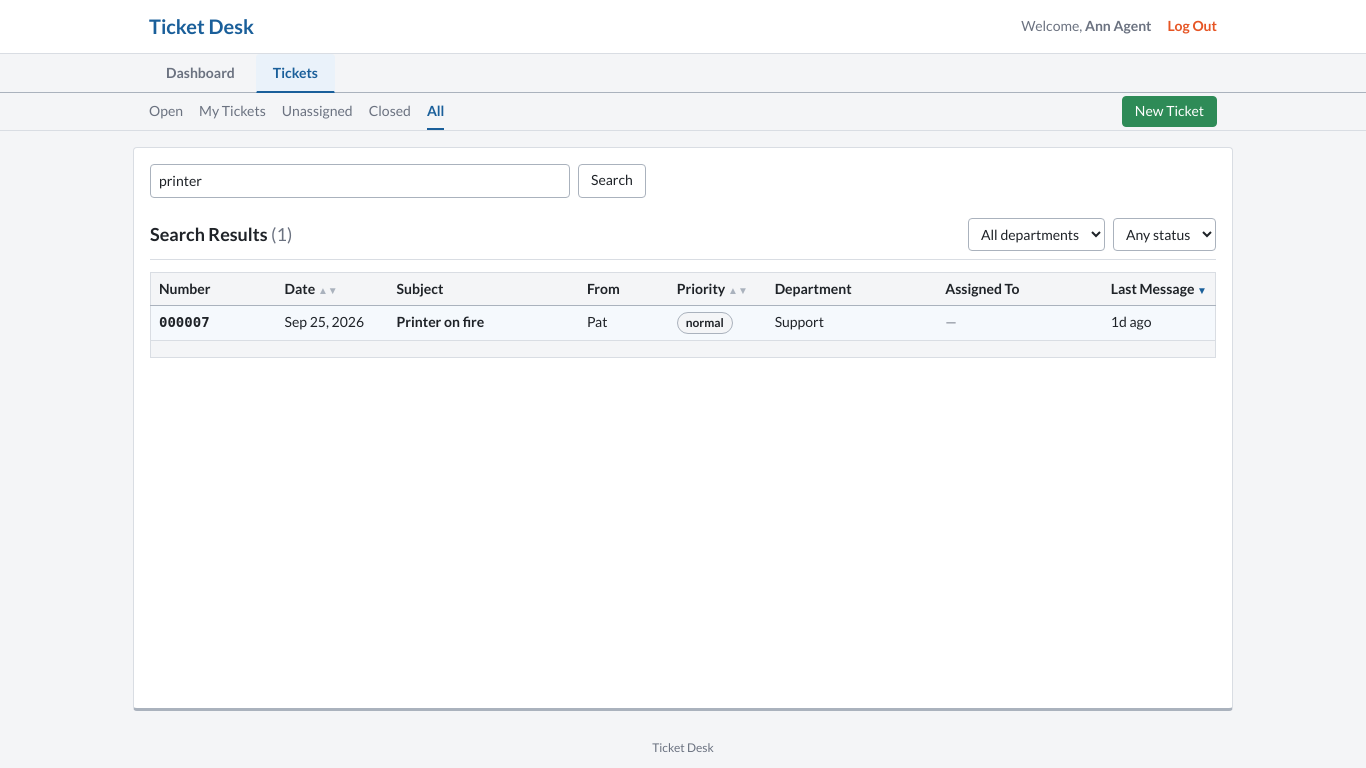
Test case: keeps the search box in sync with the URL
The image size is (1366, 768).
Expected: the heading "Search Results (1)" is shown, [150, 221, 292, 247]
Expected: the search field named "Search tickets" holds "printer", [150, 164, 570, 198]
Click the link "Open" at (166, 111), box [149, 102, 183, 119]
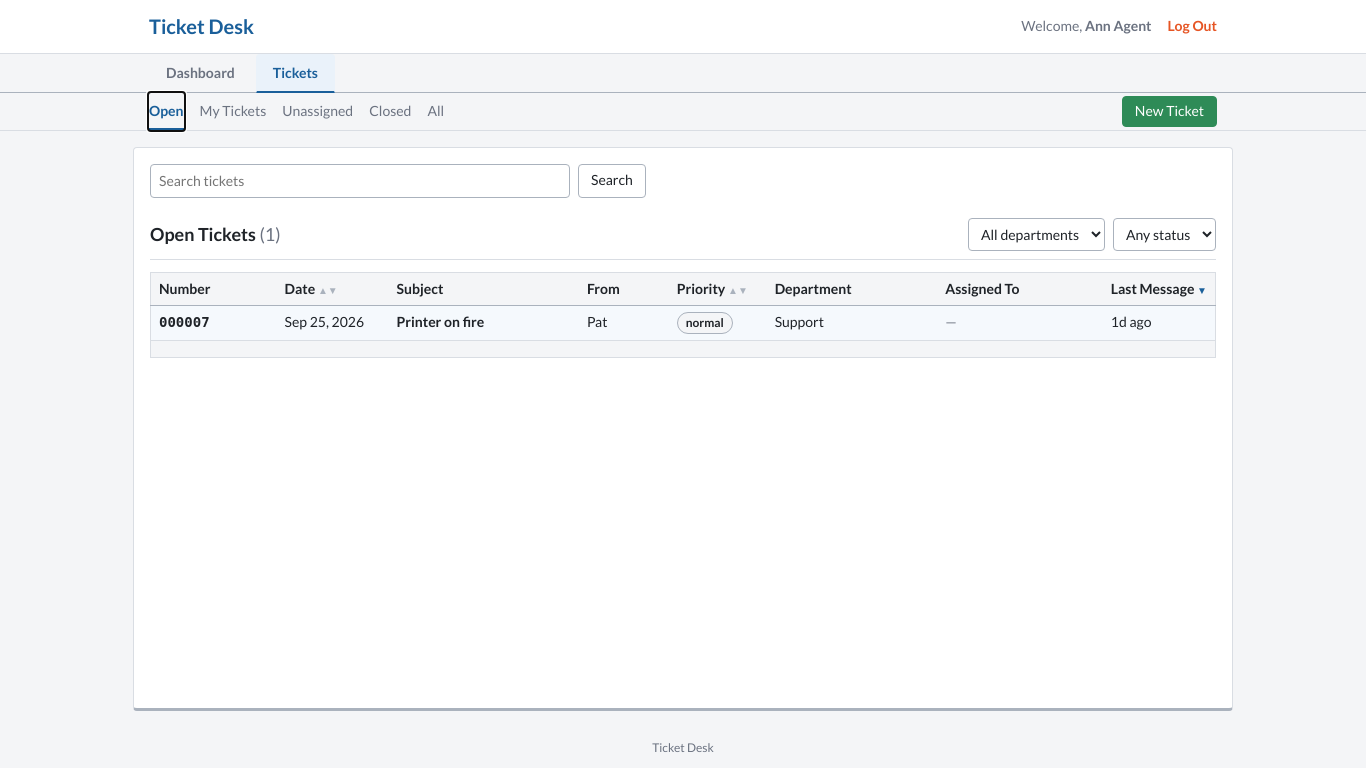
Result: the heading "Open Tickets (1)" is shown at [150, 221, 281, 247]
Result: the search field labelled "Search tickets" is empty at [150, 164, 570, 198]
